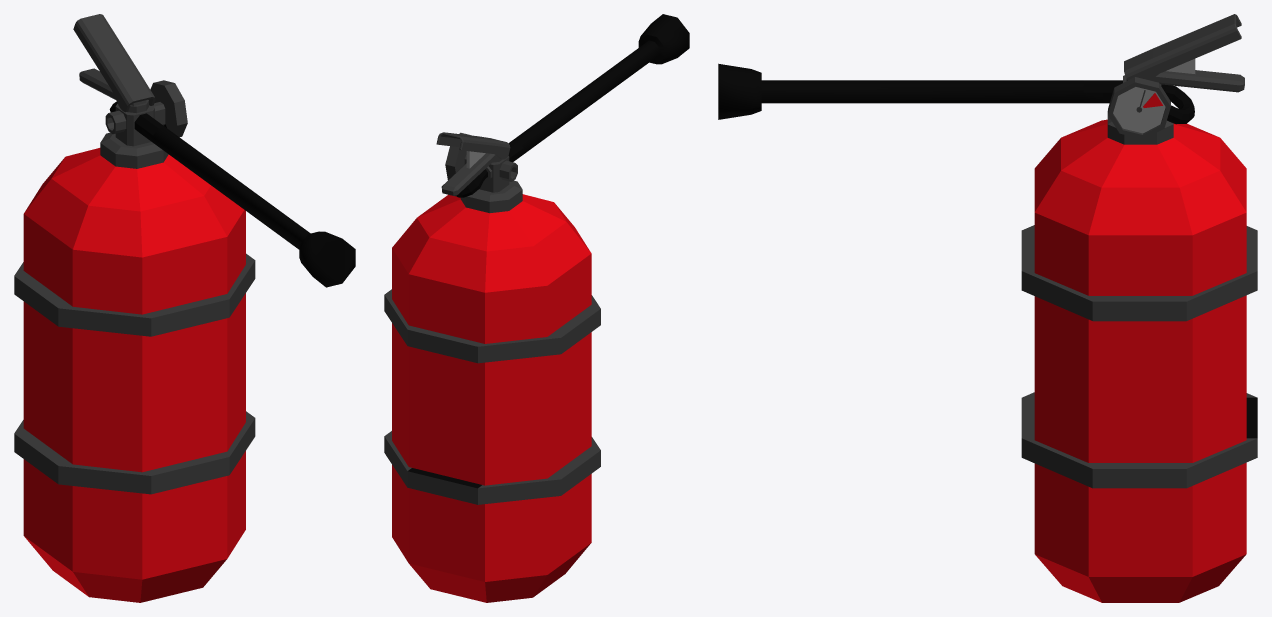
File: FireExit.fbx
3 views of the same model, side by side, from view 1: azimuth 30°, elevation 25°; view 2: azimuth 150°, elevation 25°; view 3: azimuth 270°, elevation 25° (orthographic). The views are drawn at different scales.
Visible parts, largest first — view 1: Cube.001; view 2: Cube.001; view 3: Cube.001.
Boxes of the visible parts, bbox=[...] form: Cube.001: bbox=[14, 14, 355, 602]; Cube.001: bbox=[384, 14, 689, 602]; Cube.001: bbox=[718, 14, 1257, 602].
Bounding box in the file's own units: 534 × 1388 × 1195.
